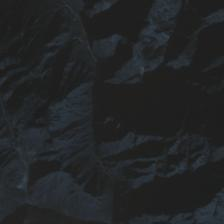landslides: (24, 156, 38, 170), (139, 66, 150, 83), (101, 0, 112, 17), (65, 37, 88, 45), (163, 0, 174, 11)
